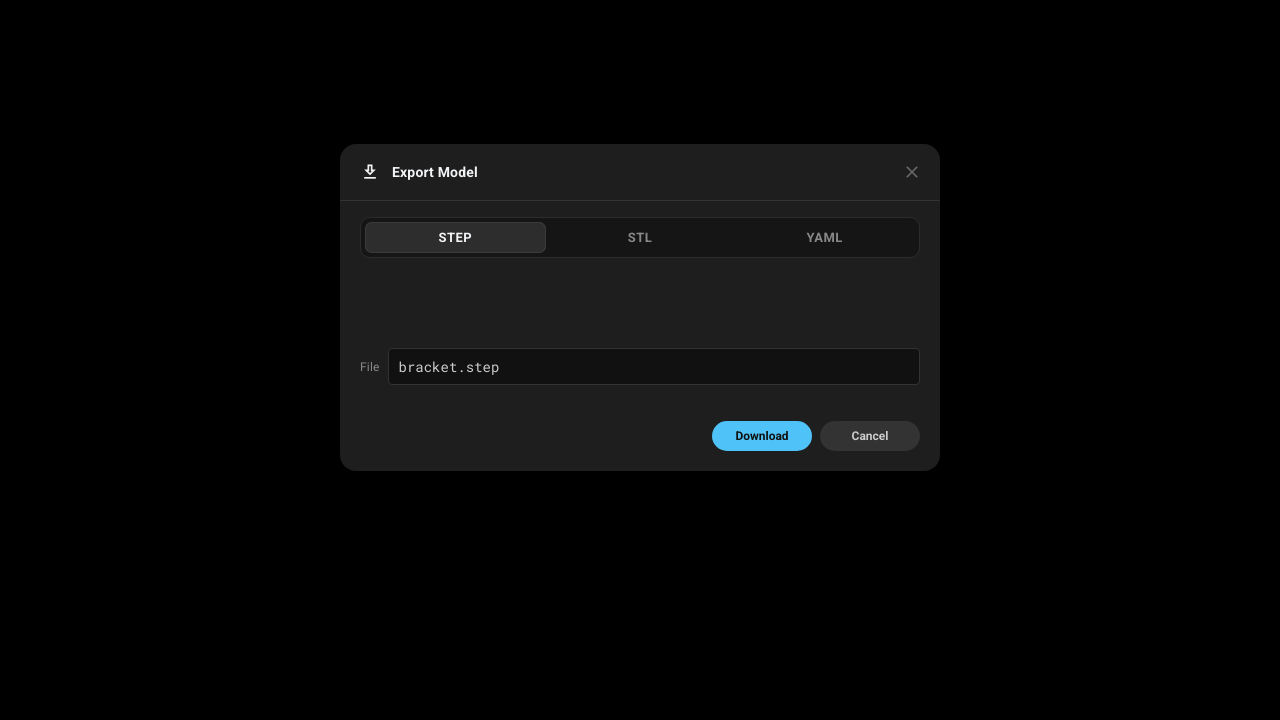
Test: PartExportImport worker export › reports a YAML serialisation failure instead of downloading nothing
This screenshot has width=1280, height=720.
What coordinates should you click on to do the following:
click the tab labelled "YAML"
I would click on:
 (825, 238)
Its box is left=734, top=222, right=915, bottom=253.
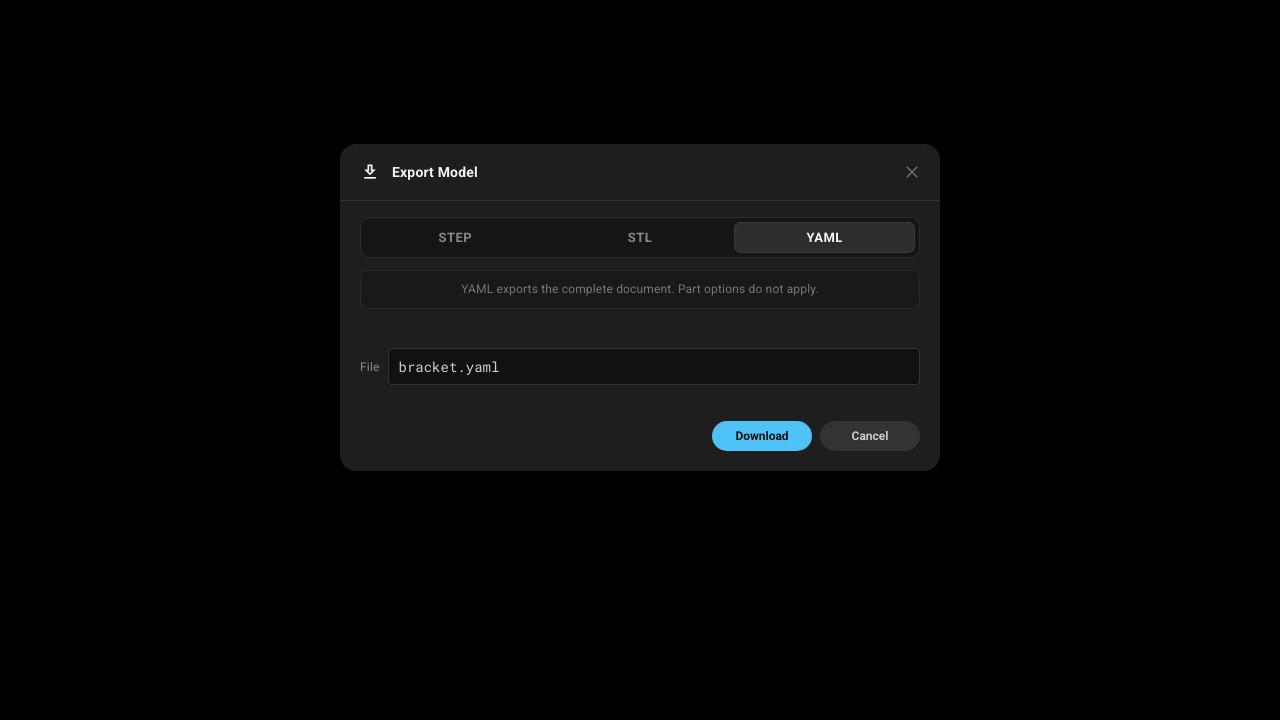
What coordinates should you click on to do the following:
click the button "Download"
I would click on:
 (762, 436)
Its box is left=712, top=421, right=812, bottom=451.
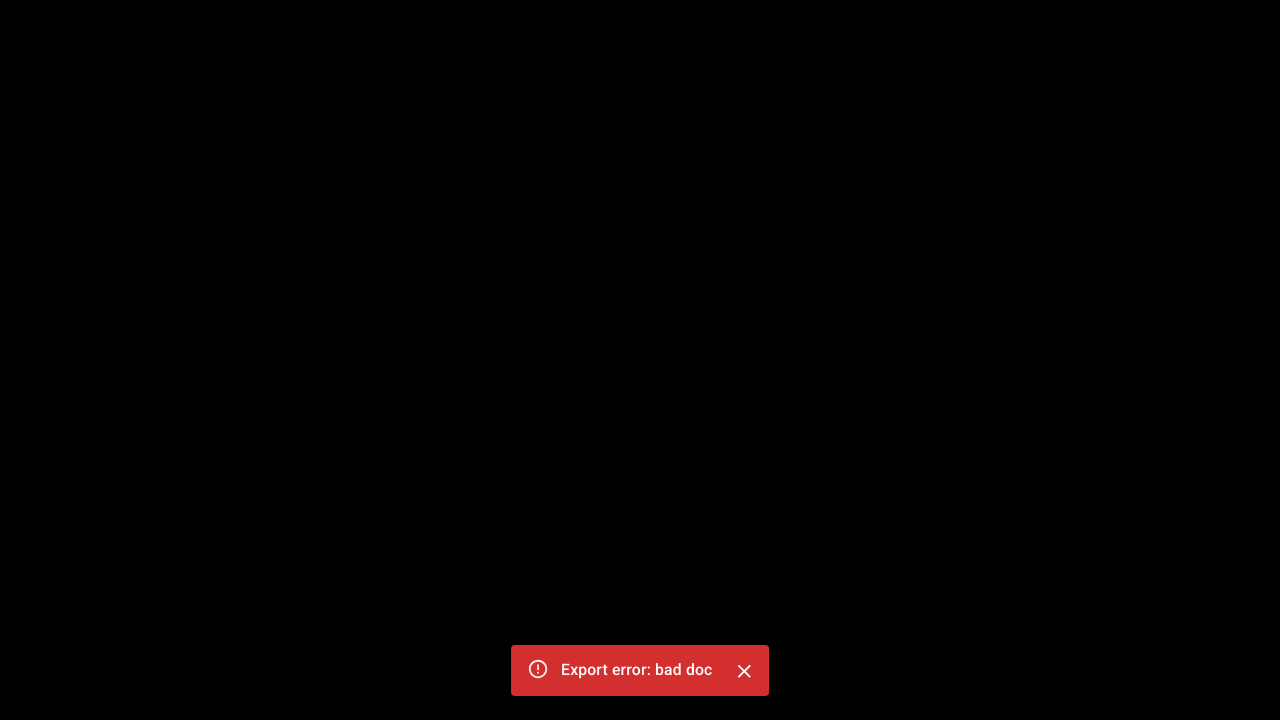
Check: the text "Export error: bad doc" is shown, box left=561, top=660, right=712, bottom=680
